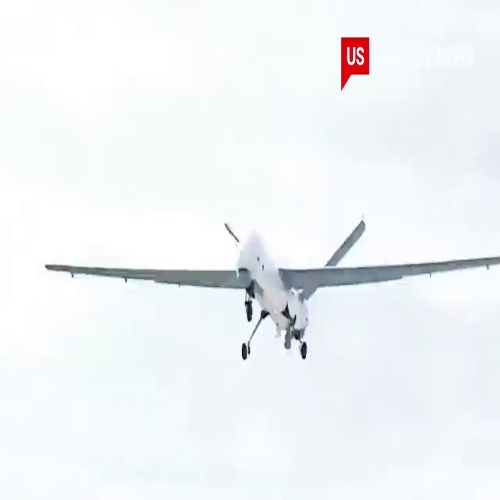uav: (41, 216, 499, 356)
